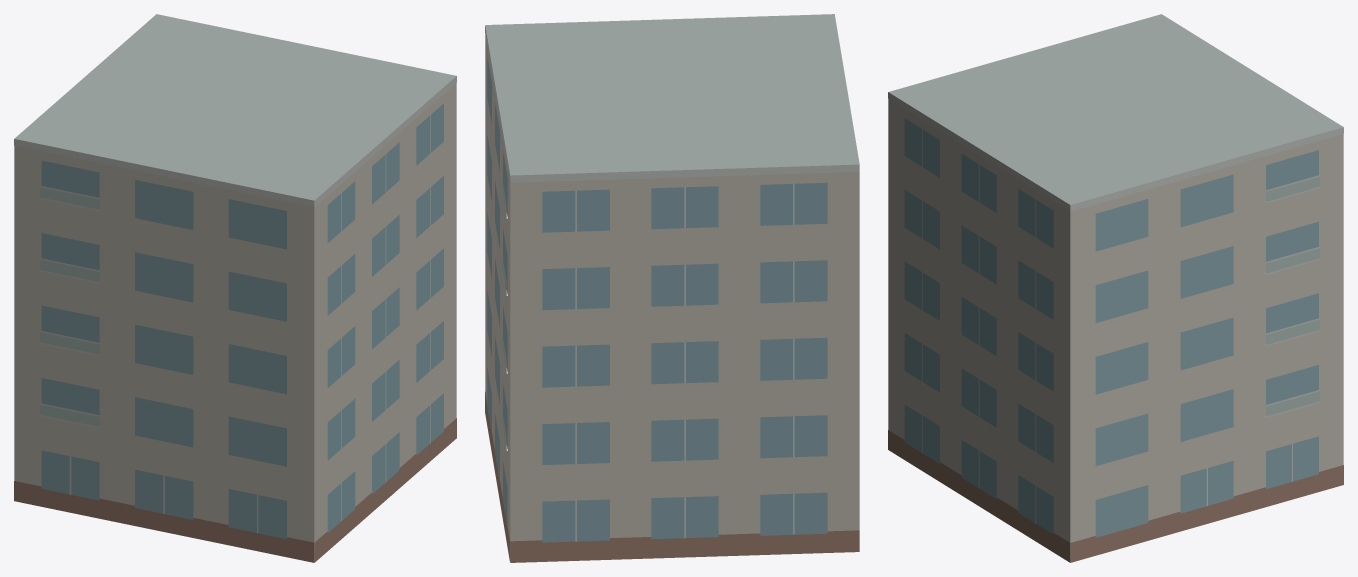
Rendered from survey-upis-33037892.glb.
3 views of the same model, side by side, from view 1: azimuth 30°, elevation 25°; view 2: azimuth 150°, elevation 25°; view 3: azimuth 270°, elevation 25° (orthographic). The views are drawn at different scales.
Visible parts, largest first — view 1: survey-upis-33037892.tmp; view 2: survey-upis-33037892.tmp; view 3: survey-upis-33037892.tmp.
Part boxes in pixels (bbox=[...]): survey-upis-33037892.tmp: bbox=[14, 14, 456, 562]; survey-upis-33037892.tmp: bbox=[485, 14, 859, 562]; survey-upis-33037892.tmp: bbox=[888, 14, 1343, 562].
Bounding box in the file's own units: 14.96 × 13.05 × 15.07.
